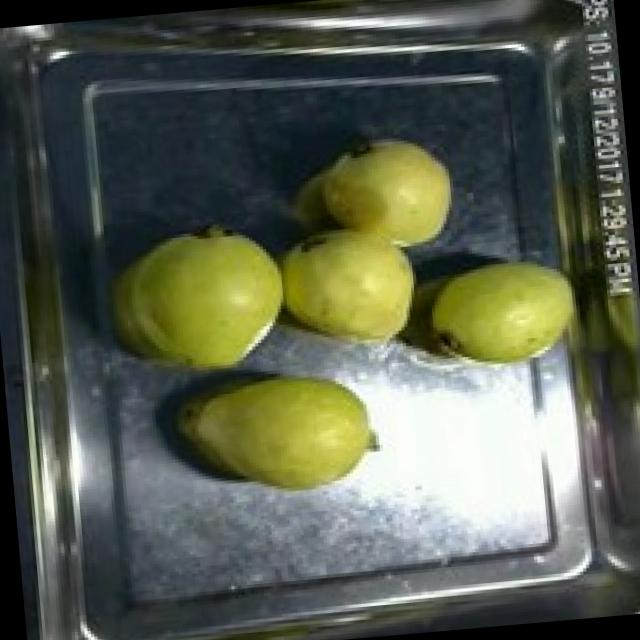Fruit: (100, 213, 299, 390), (162, 357, 386, 513), (266, 208, 432, 362), (414, 246, 588, 382), (308, 125, 466, 265)
